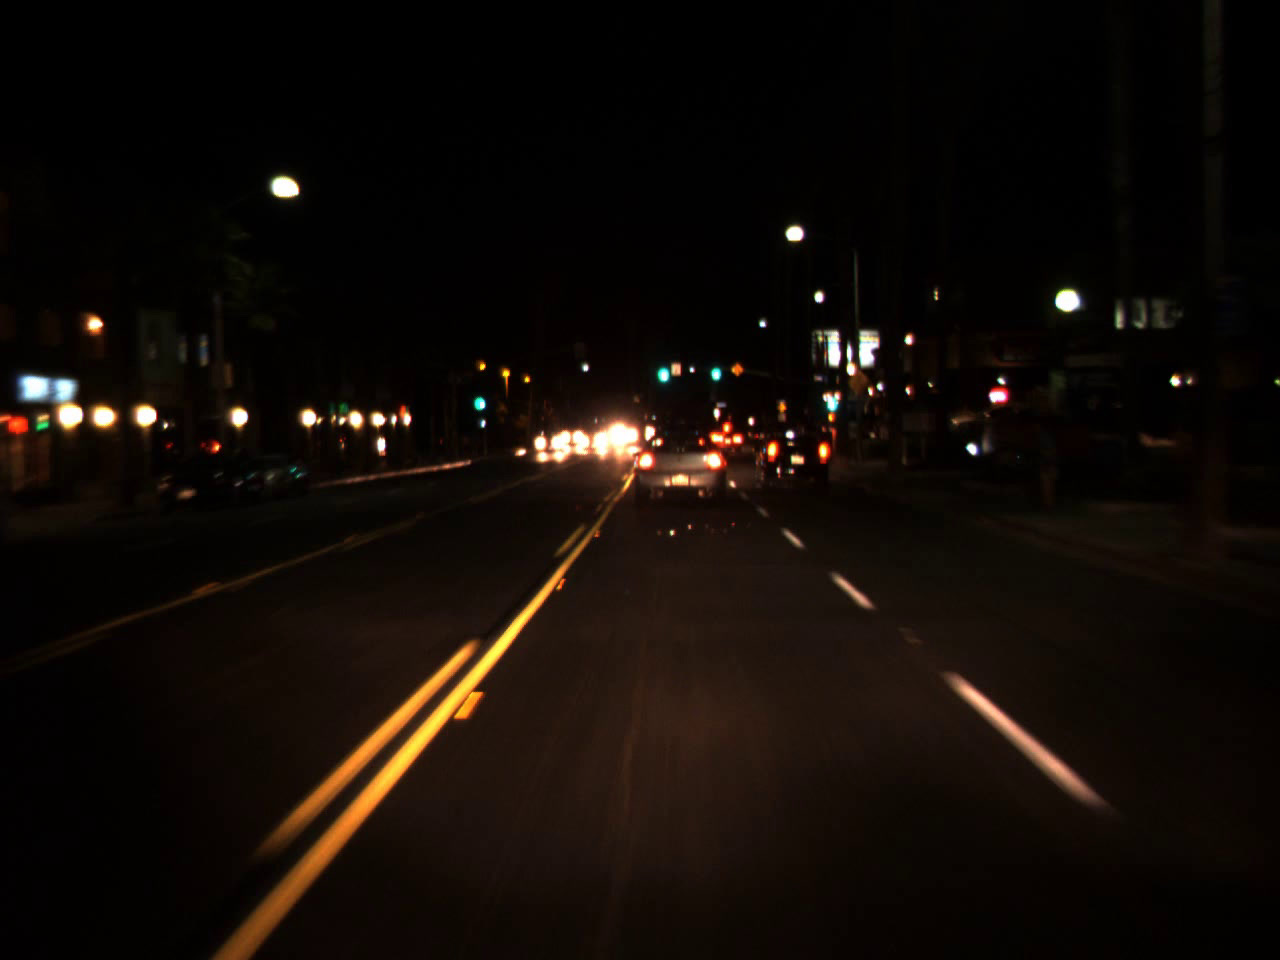go: (820, 377, 841, 416), (652, 351, 671, 387), (470, 381, 486, 414), (708, 352, 722, 385)
